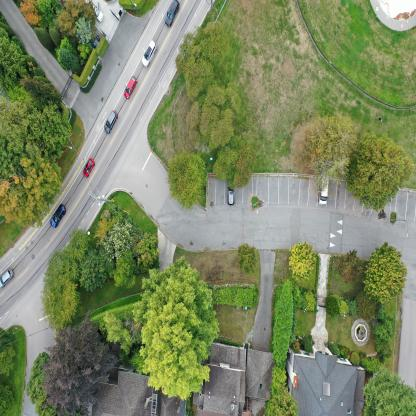Coniferous Tree: (42, 316, 126, 410), (354, 129, 404, 211), (307, 113, 353, 193), (179, 21, 231, 91), (212, 132, 262, 189), (160, 148, 212, 202), (39, 250, 78, 322), (364, 367, 416, 416), (66, 230, 108, 286), (0, 97, 37, 147), (35, 107, 77, 150), (198, 91, 232, 144), (103, 312, 140, 352), (21, 77, 66, 103), (111, 252, 136, 286), (0, 133, 19, 177), (0, 37, 27, 67), (0, 326, 18, 370), (263, 395, 300, 416)
Deciduous Tree: (140, 254, 206, 398), (0, 149, 62, 227), (364, 238, 409, 307), (289, 242, 313, 277), (138, 229, 158, 266), (110, 221, 132, 250), (339, 250, 356, 282), (238, 246, 255, 270)
